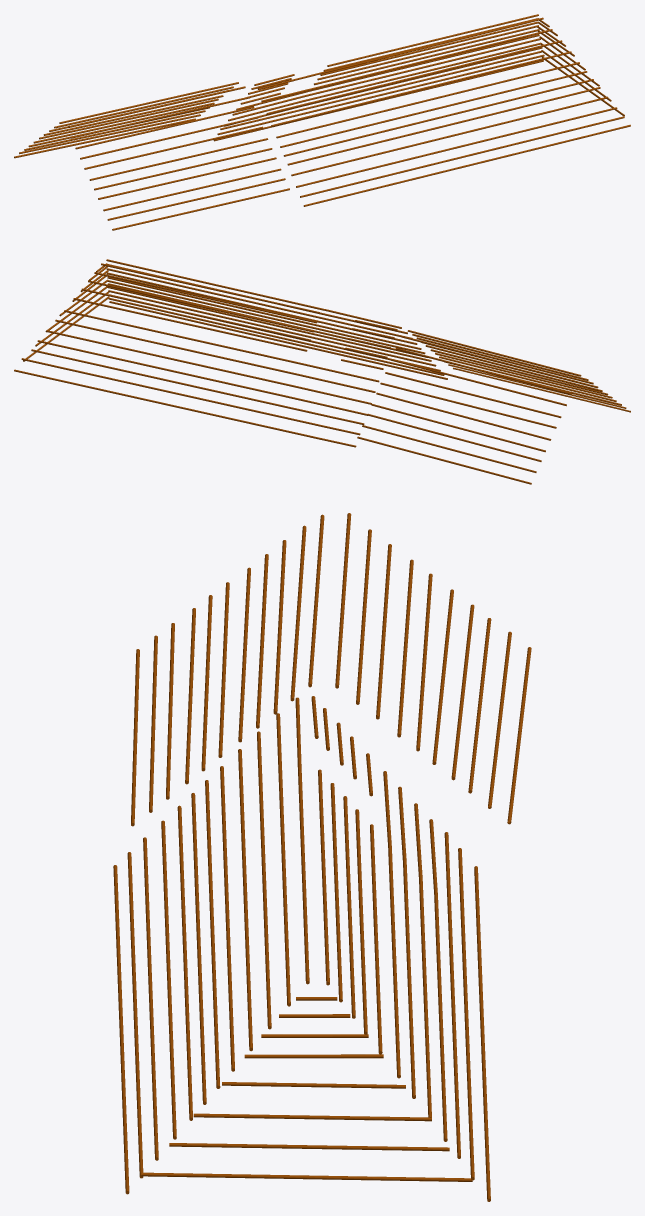
File: late.dae
3 views of the same model, one above another, from view 1: azimuth 30°, elevation 25°; view 2: azimuth 150°, elevation 25°; view 3: azimuth 270°, elevation 25° (orthographic). The views are drawn at different scales.
Visible parts, largest first — view 1: group_8, group_7, group_10, group_4, group_9, group_11, group_6, group_5, group_3, group_2, group_1, group_19 (+31 smaller); view 2: group_8, group_7, group_4, group_6, group_9, group_5, group_20, group_19, group_2, group_0, group_18, group_3 (+31 smaller); view 3: group_8, group_27, group_7, group_10, group_4, group_9, group_11, group_6, group_5, group_3, group_20, group_2 (+15 smaller).
Boxes of the visible parts, bbox=[...] form: group_8: bbox=[303, 124, 630, 206]; group_7: bbox=[300, 116, 624, 197]; group_10: bbox=[296, 107, 617, 187]; group_4: bbox=[291, 96, 608, 176]; group_9: bbox=[287, 87, 600, 165]; group_11: bbox=[283, 79, 593, 156]; group_6: bbox=[280, 71, 587, 147]; group_5: bbox=[276, 62, 579, 138]; group_3: bbox=[271, 51, 571, 126]; group_2: bbox=[266, 40, 562, 114]; group_1: bbox=[261, 29, 552, 102]; group_19: bbox=[255, 54, 544, 126]; group_8: bbox=[109, 301, 447, 379]; group_7: bbox=[108, 298, 444, 375]; group_4: bbox=[108, 290, 436, 366]; group_6: bbox=[108, 280, 425, 354]; group_9: bbox=[108, 287, 431, 361]; group_5: bbox=[107, 277, 421, 349]; group_20: bbox=[14, 369, 317, 438]; group_19: bbox=[21, 358, 321, 426]; group_2: bbox=[106, 268, 412, 338]; group_0: bbox=[106, 259, 401, 328]; group_18: bbox=[31, 349, 325, 416]; group_3: bbox=[106, 272, 417, 344]; group_8: bbox=[113, 865, 129, 1194]; group_27: bbox=[142, 1172, 472, 1181]; group_7: bbox=[127, 852, 143, 1178]; group_10: bbox=[143, 837, 158, 1160]; group_4: bbox=[161, 820, 176, 1139]; group_9: bbox=[177, 805, 192, 1120]; group_11: bbox=[191, 793, 206, 1104]; group_6: bbox=[205, 780, 220, 1088]; group_5: bbox=[220, 766, 234, 1071]; group_3: bbox=[238, 749, 252, 1051]; group_20: bbox=[475, 903, 490, 1201]; group_2: bbox=[257, 731, 271, 1029].
Size of the model in its own units: 748 by 261 by 126.
